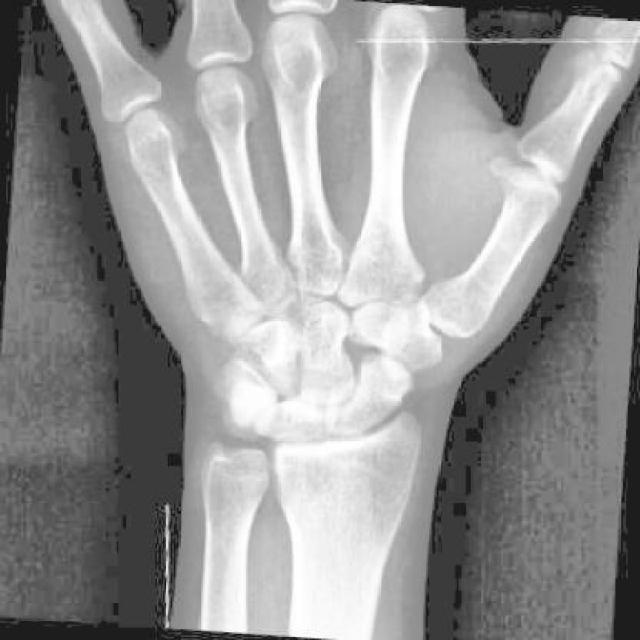Fracture: (223, 379, 274, 425)
